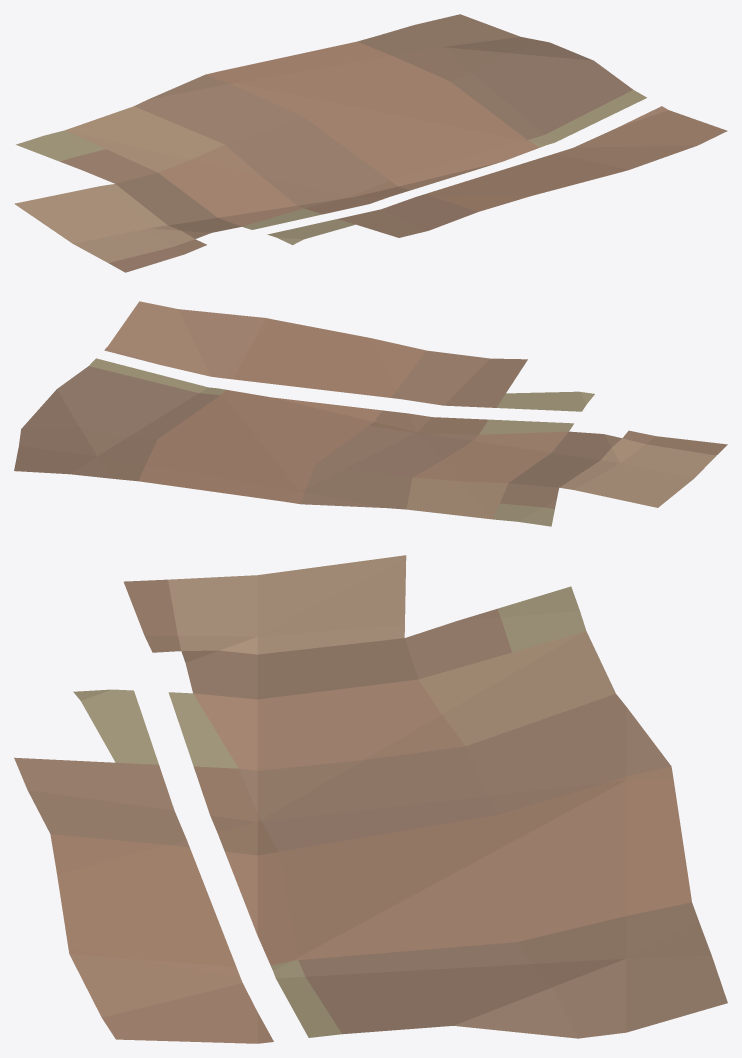
Rendered from farm_9_25_soil.glb.
The picture shows the model from 3 angles, top to bottom: view 1: azimuth 30°, elevation 25°; view 2: azimuth 150°, elevation 25°; view 3: azimuth 270°, elevation 25°; orthographic projection. The views are drawn at different scales.
Visible parts, largest first — view 1: geometry_0; view 2: geometry_0; view 3: geometry_0.
Part boxes in pixels (<box>): geometry_0: <box>14,14,727,272</box>; geometry_0: <box>14,301,727,526</box>; geometry_0: <box>14,555,727,1043</box>.
Size of the model in its own units: 241 by 13.7 by 155.
